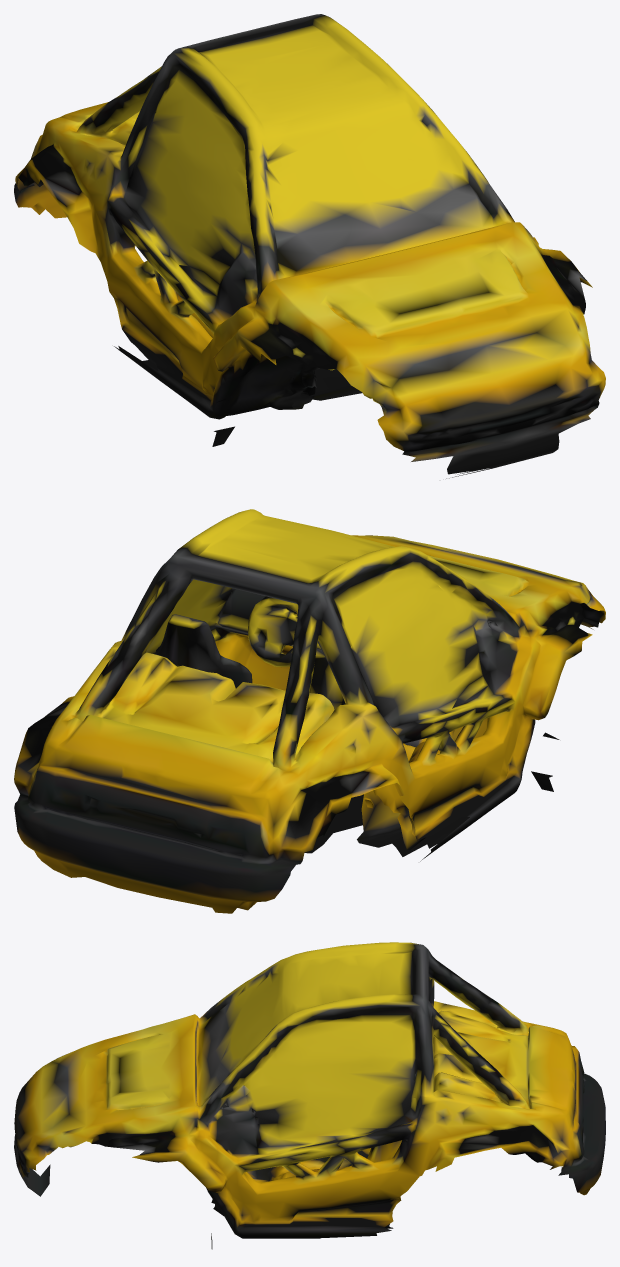
The model's file is buggy.glb.
3 renders of one model, top to bottom at view 1: azimuth 30°, elevation 25°; view 2: azimuth 150°, elevation 25°; view 3: azimuth 270°, elevation 25°, orthographic. The views are drawn at different scales.
Visible parts, largest first — view 1: geometry_0; view 2: geometry_0; view 3: geometry_0.
Boxes of the visible parts, x1,y1,x2,y2 form: geometry_0: (14,14,605,478); geometry_0: (14,509,605,913); geometry_0: (14,942,605,1249).
Size of the model in its own units: 2.02 by 1.55 by 3.8.
